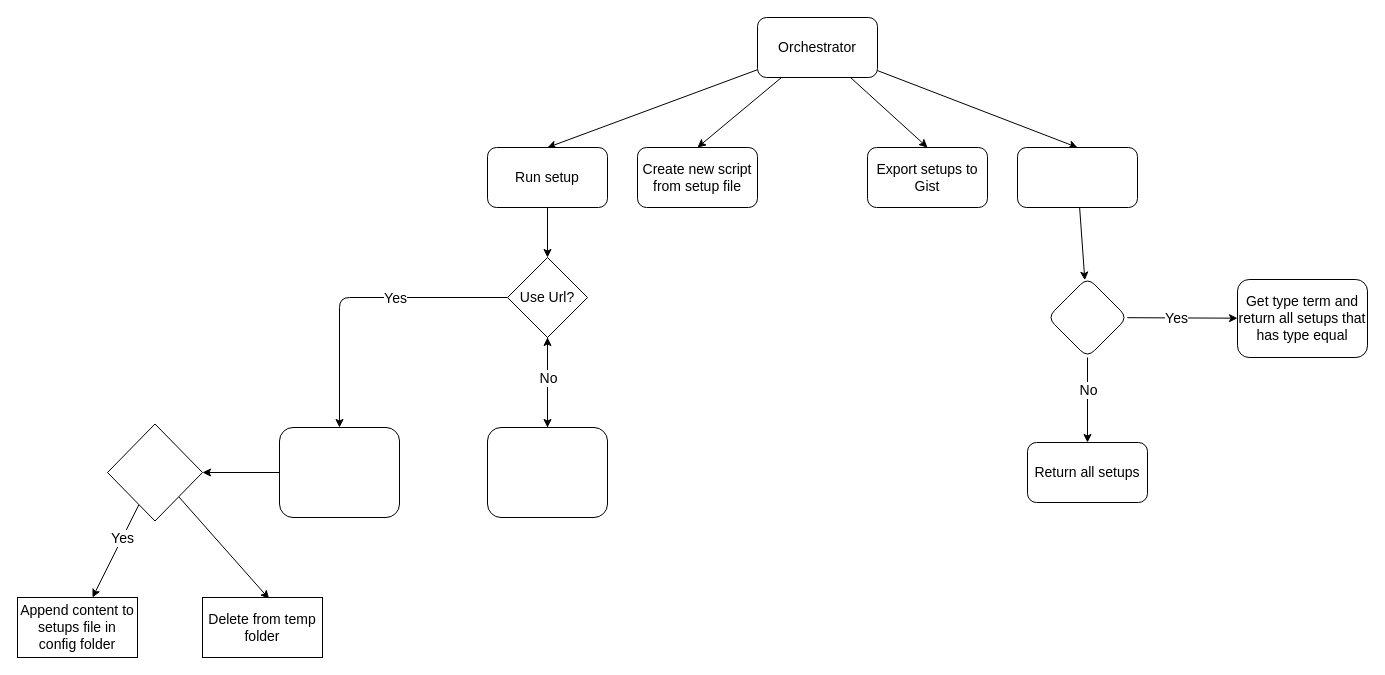
The diagram is 1385 pixels wide and 675 high, and some of its shapes have lost their labels. Each missing label, with the box of its shape:
Filter by type?: (1046, 276, 1128, 358)
List all setups available: (1016, 146, 1138, 208)
Load setups from config folder: (486, 426, 608, 518)
Should save it?: (106, 423, 202, 521)
Use Node.js Stream to get file and save in a temp folder: (278, 426, 400, 518)
